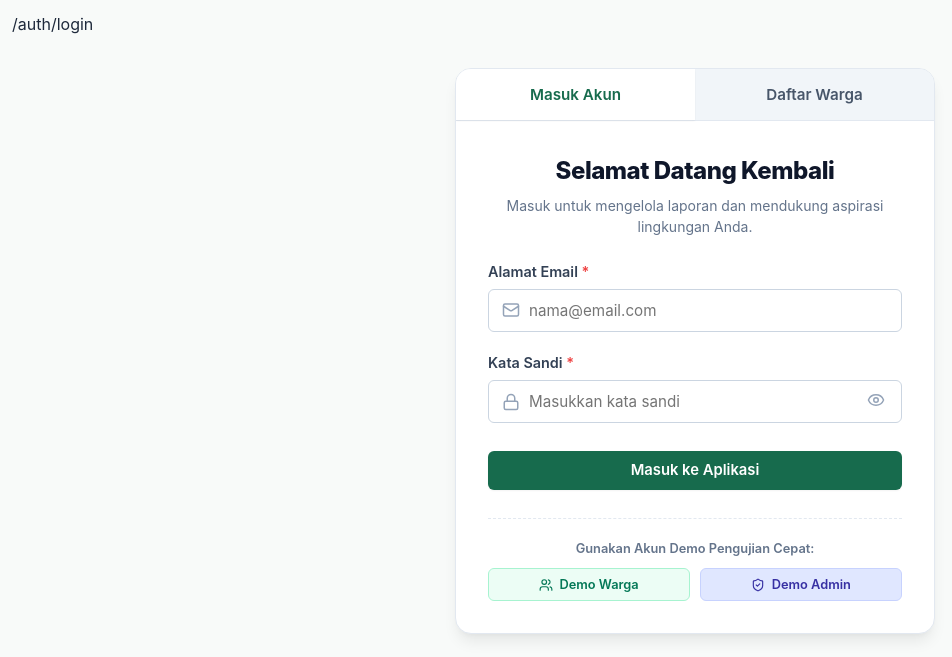
Scenario: AuthPage › authenticates with trimmed credentials and returns to the originating route
The width and height of the screenshot is (952, 657).
Type "  warga@example.test  " into the field labelled "Alamat Email *". click: {"x": 695, "y": 310}
box: 488,289 -> 902,332
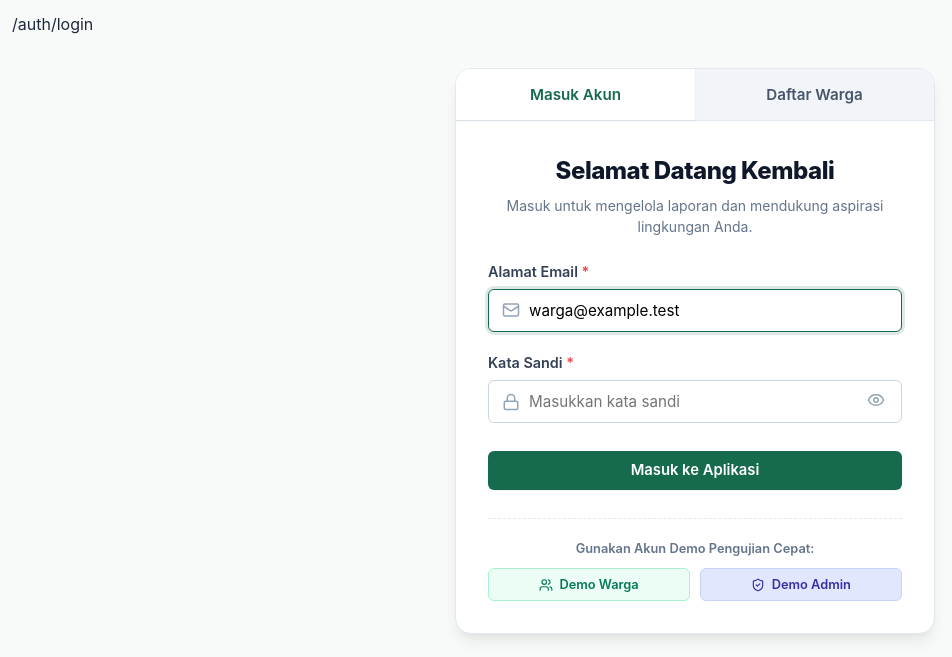
Type "password123" into the password field labelled "Kata Sandi *". click: {"x": 695, "y": 402}
box: 488,380 -> 902,423
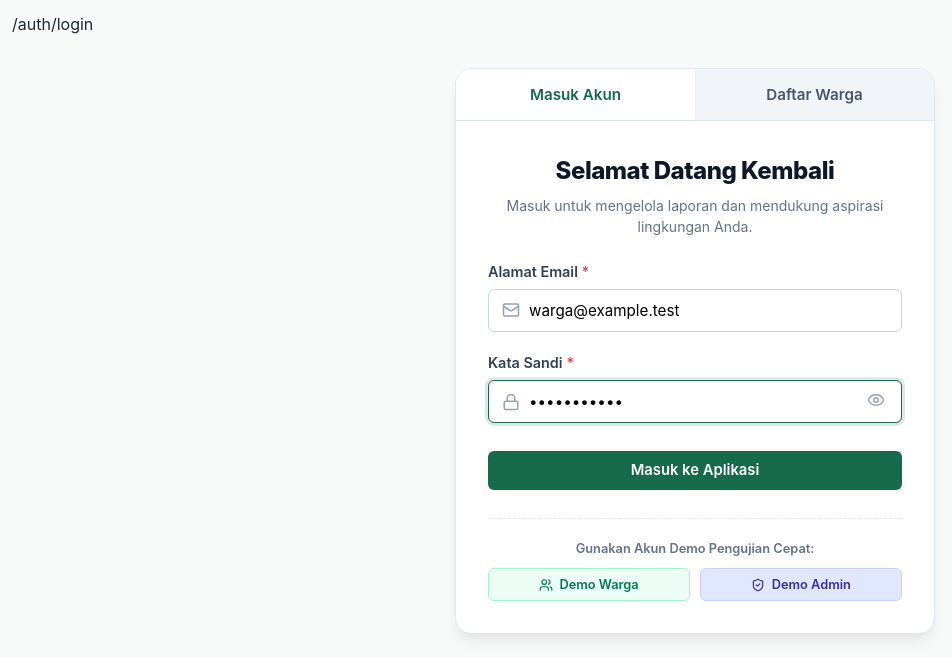
Click the button "Masuk ke Aplikasi". click: {"x": 695, "y": 471}
box: 488,451 -> 902,490
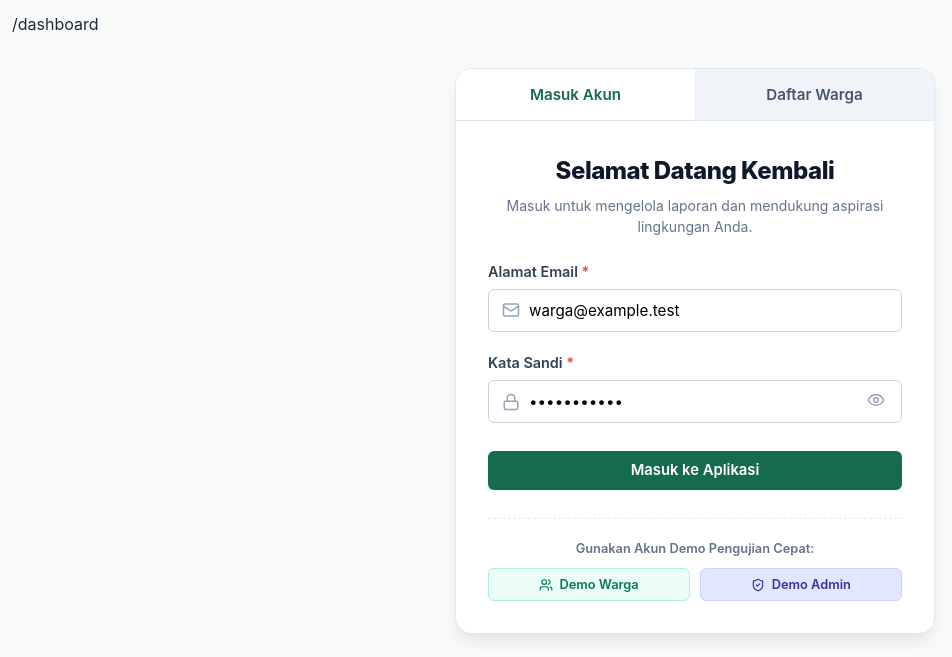
Expected: the text with test id "path" reads "/dashboard", 12,14 -> 98,34
